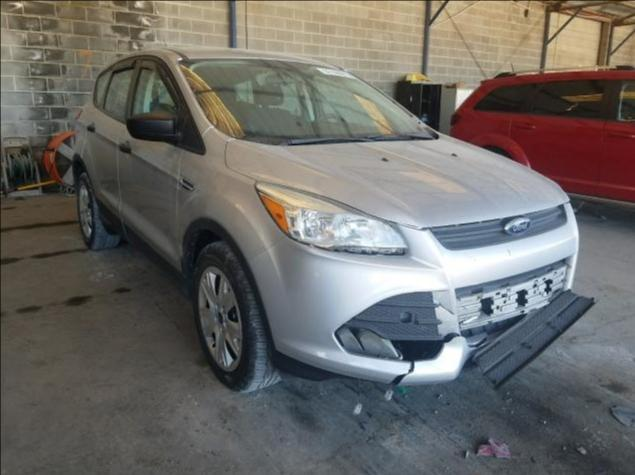Broken part: (249, 203, 596, 386), (255, 181, 406, 256)
Paint chip: (312, 349, 328, 363)
